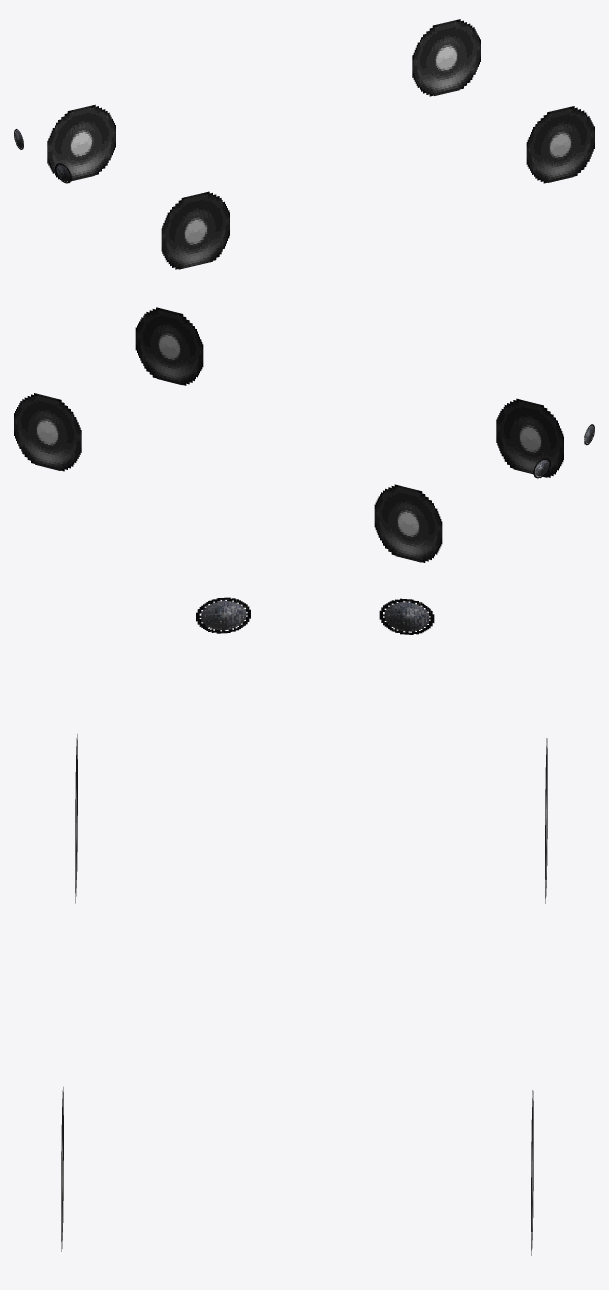
File: streets_car_secondary_3.glb
3 renders of one model, top to bottom at view 1: azimuth 30°, elevation 25°; view 2: azimuth 150°, elevation 25°; view 3: azimuth 270°, elevation 25°, orthographic. The views are drawn at different scales.
Parts seen in each view (by area): view 1: Object; view 2: Object; view 3: Object.
Part boxes in pixels (x1,y1,x2,y2): Object: (14,19,594,269); Object: (14,307,594,562); Object: (61,597,547,1255).
Size of the model in its own units: 4.46 by 0.8396 by 1.9.
6 materials, 6 textured.
